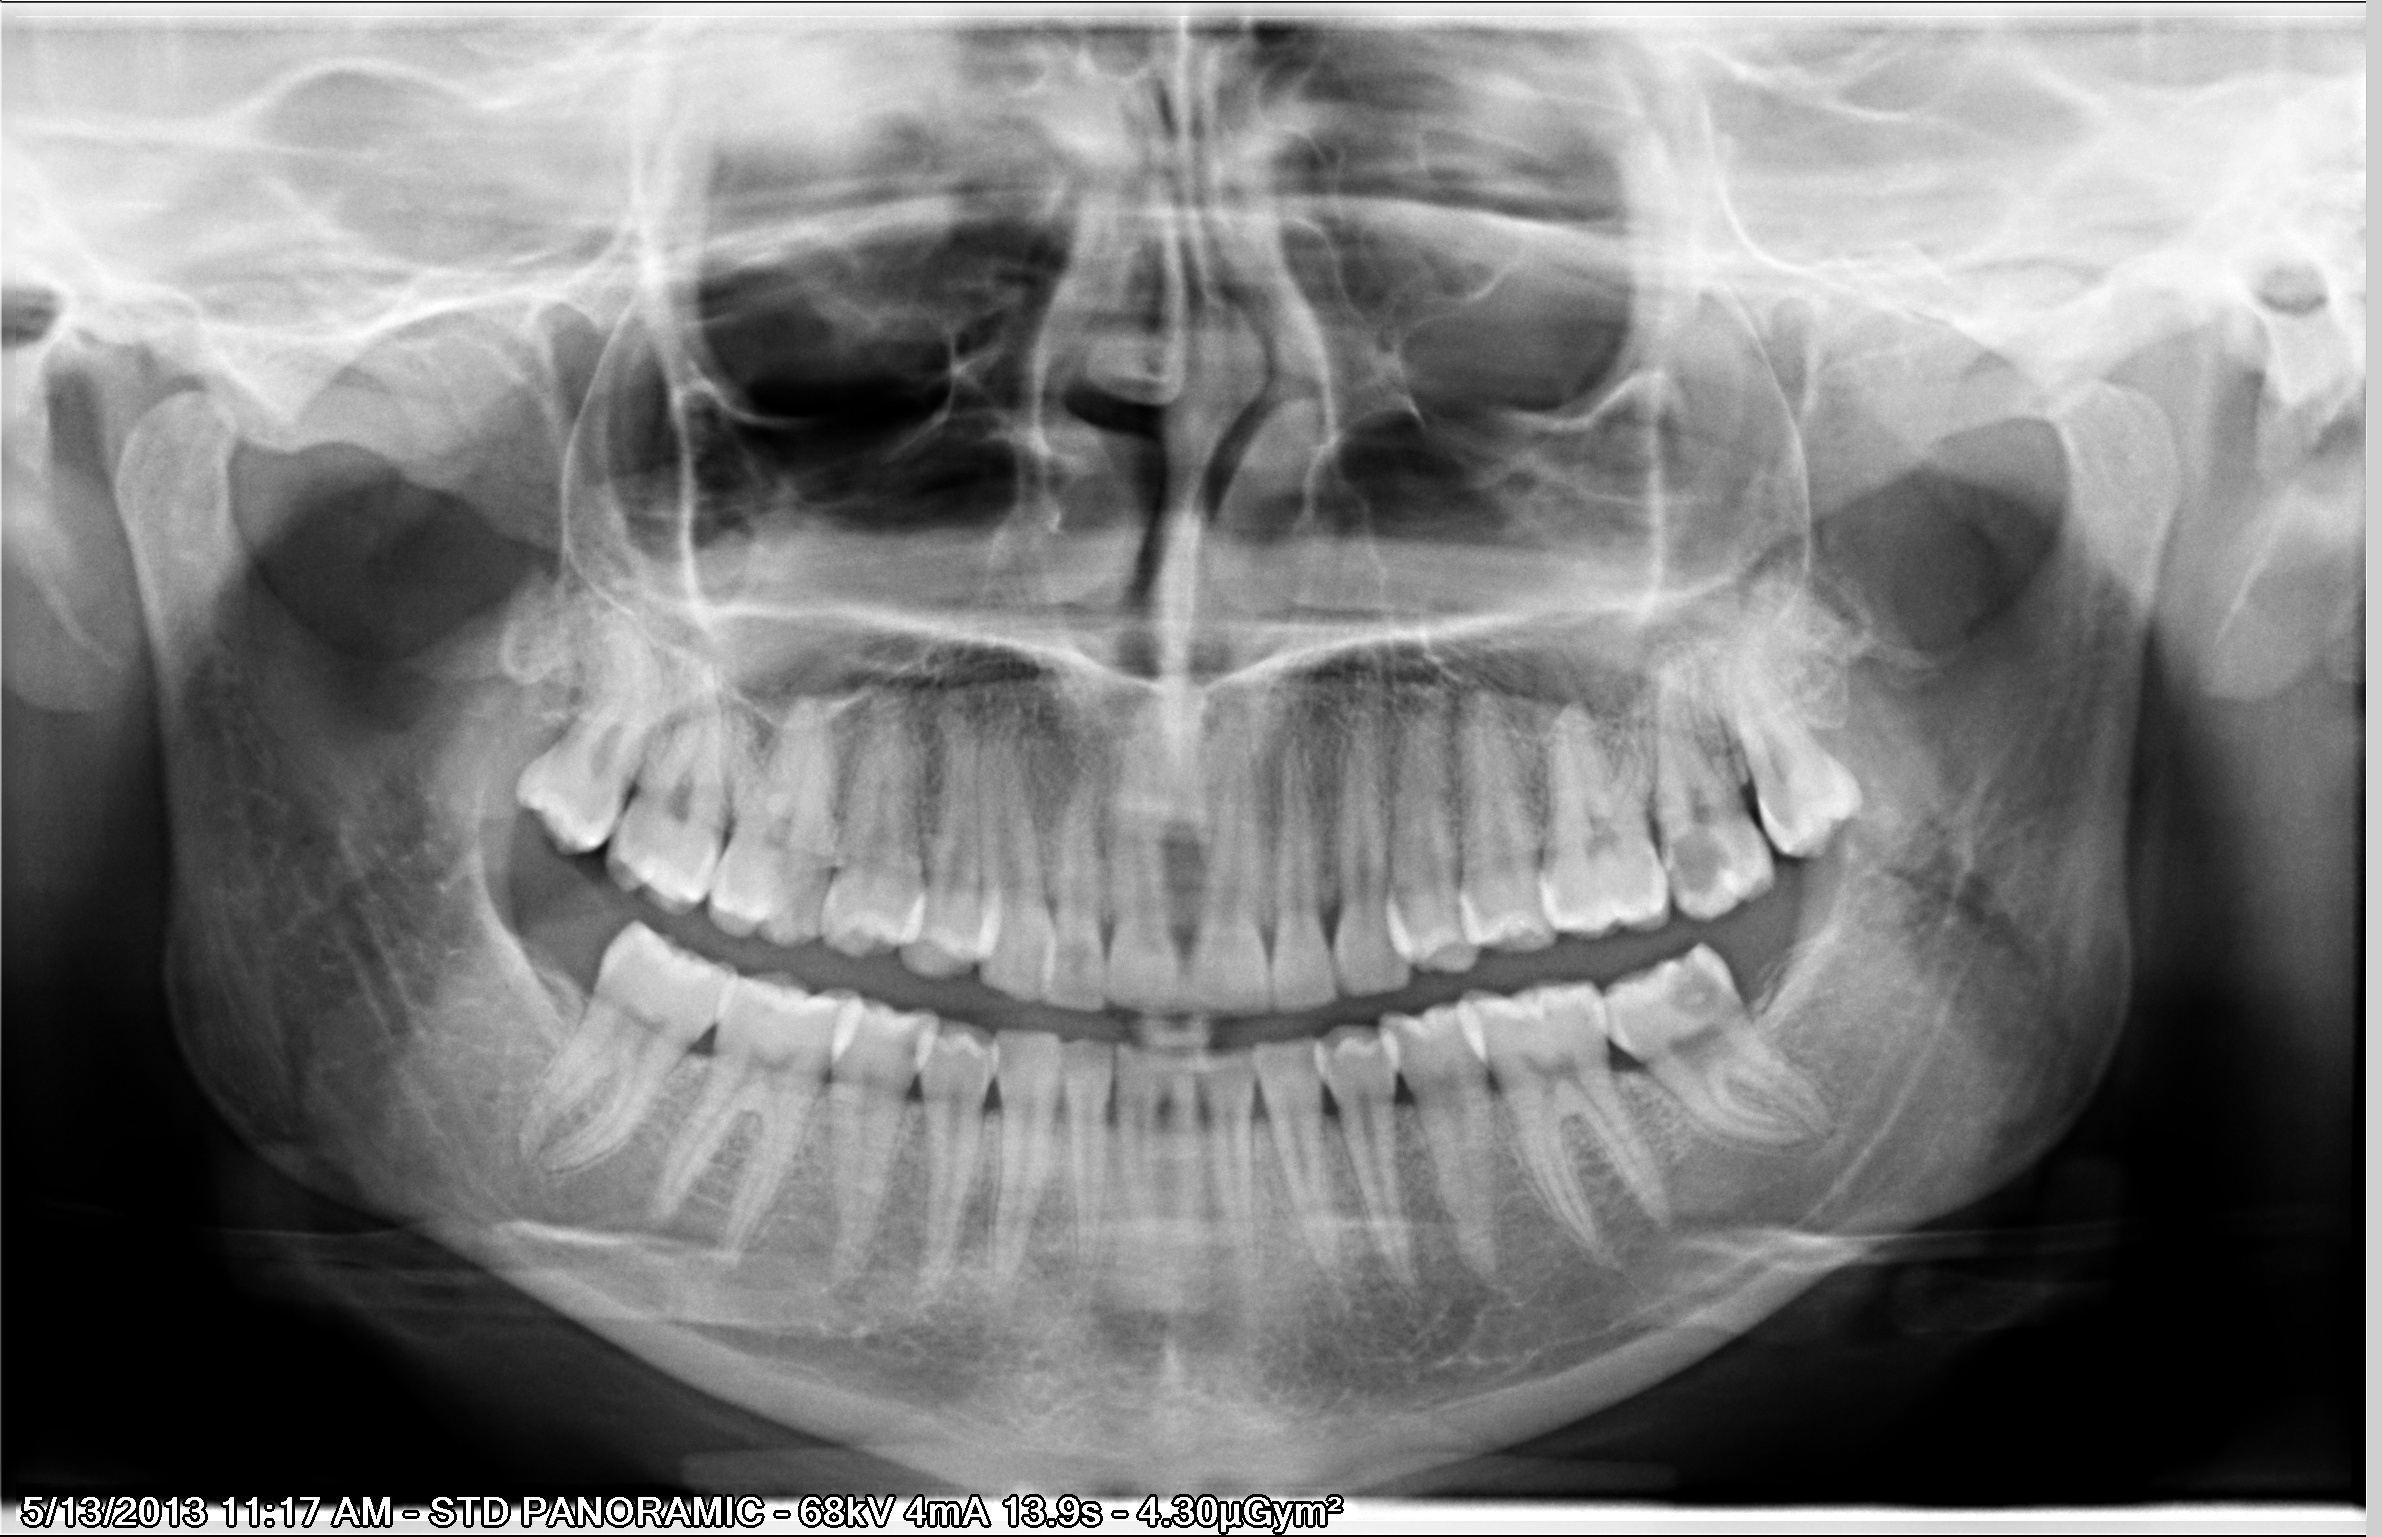CAR: (771, 849, 830, 947)
